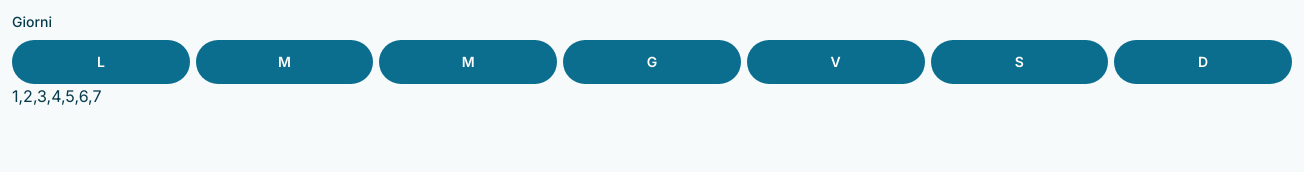
Test case: WeekdayPicker › attiva e disattiva giorni mantenendo l’ordine
This screenshot has width=1304, height=172.
Click the button named "martedì". click: click(285, 62)
box: [196,40,373,84]
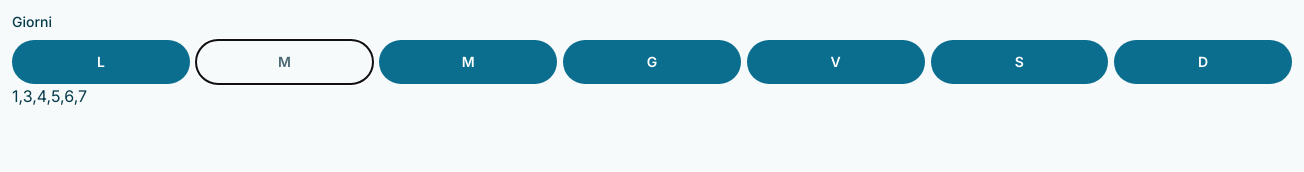
Expected: the text "1,3,4,5,6,7" is shown, [12,86,87,106]
Click the button named "martedì". click: click(285, 62)
box: [196,40,373,84]
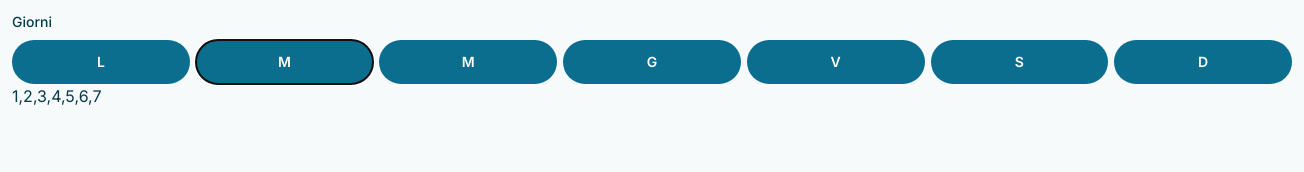
Expected: the text "1,2,3,4,5,6,7" is shown, [12,86,102,106]
